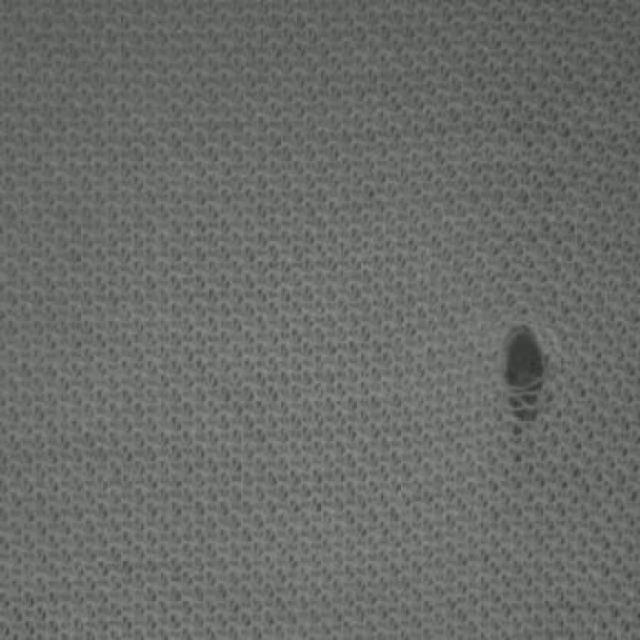Hole: (506, 326, 545, 421)
